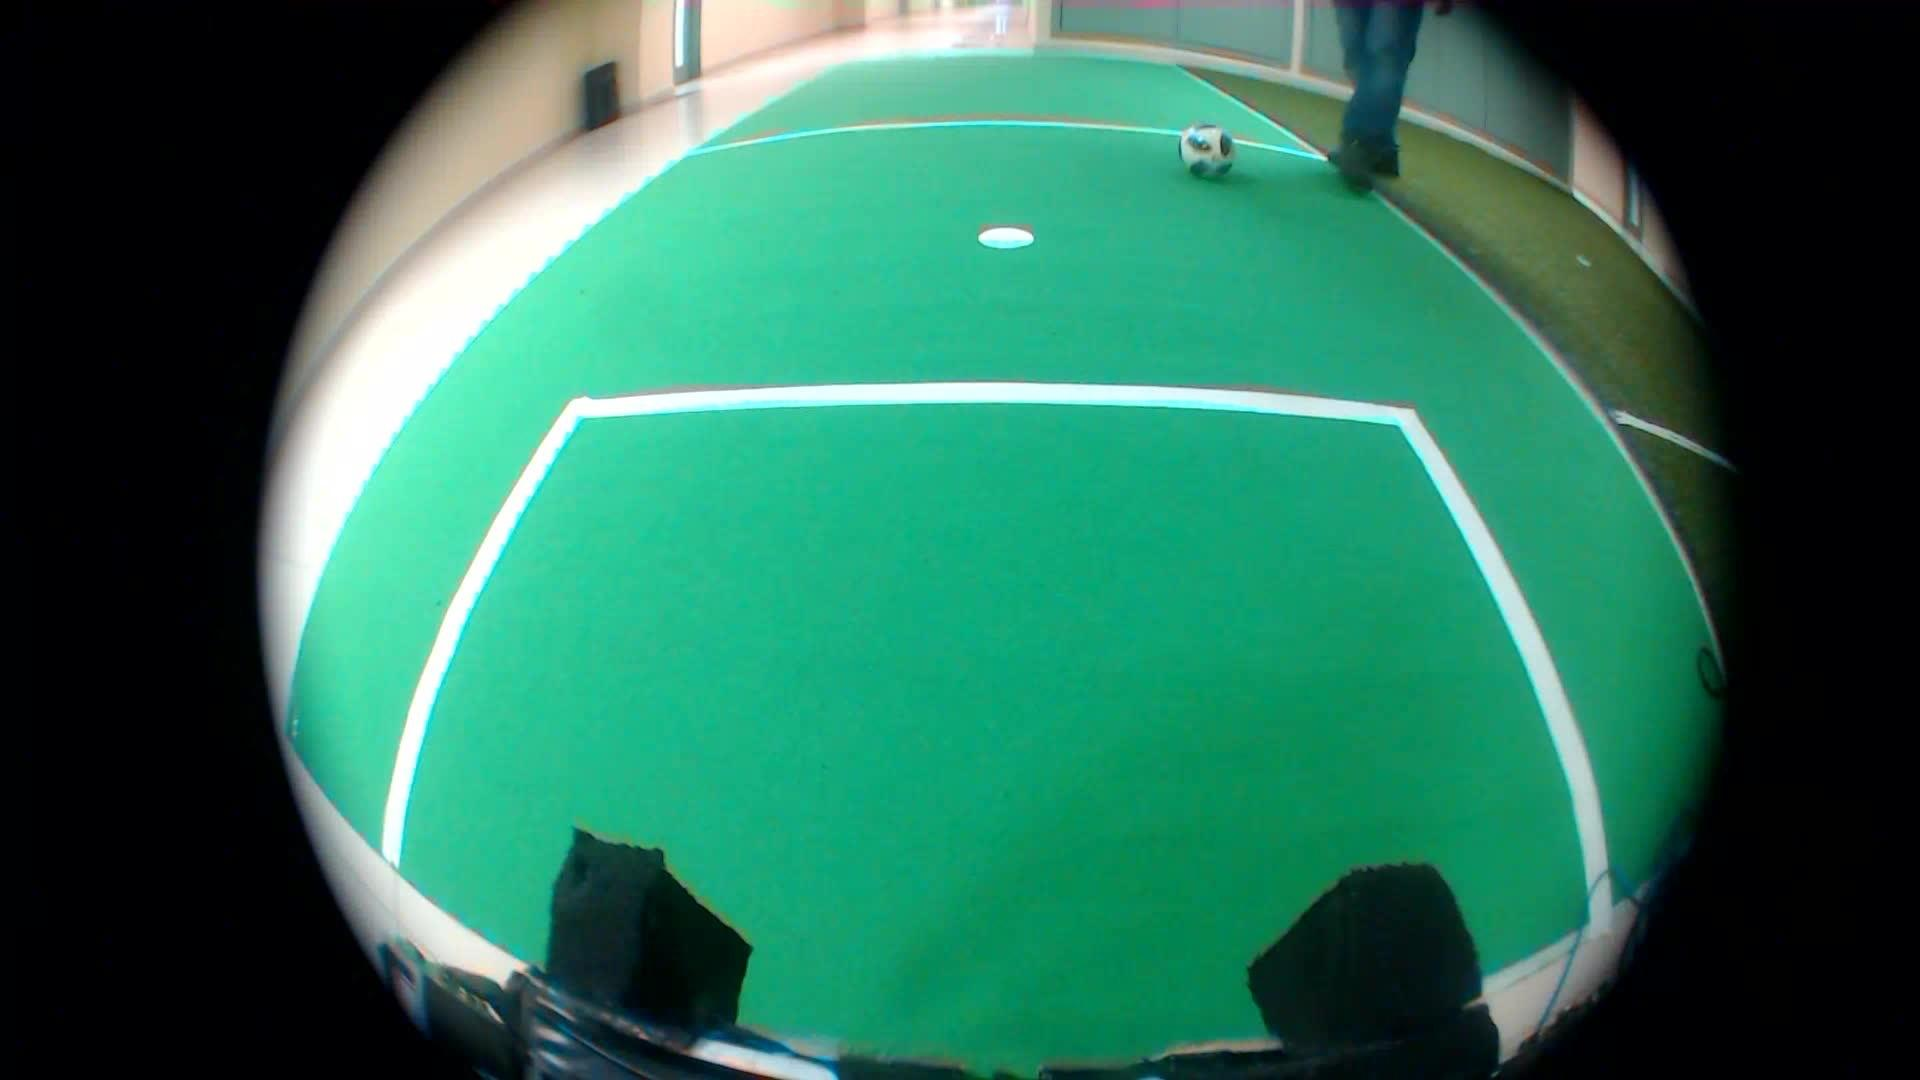ball: (1176, 112, 1240, 191)
